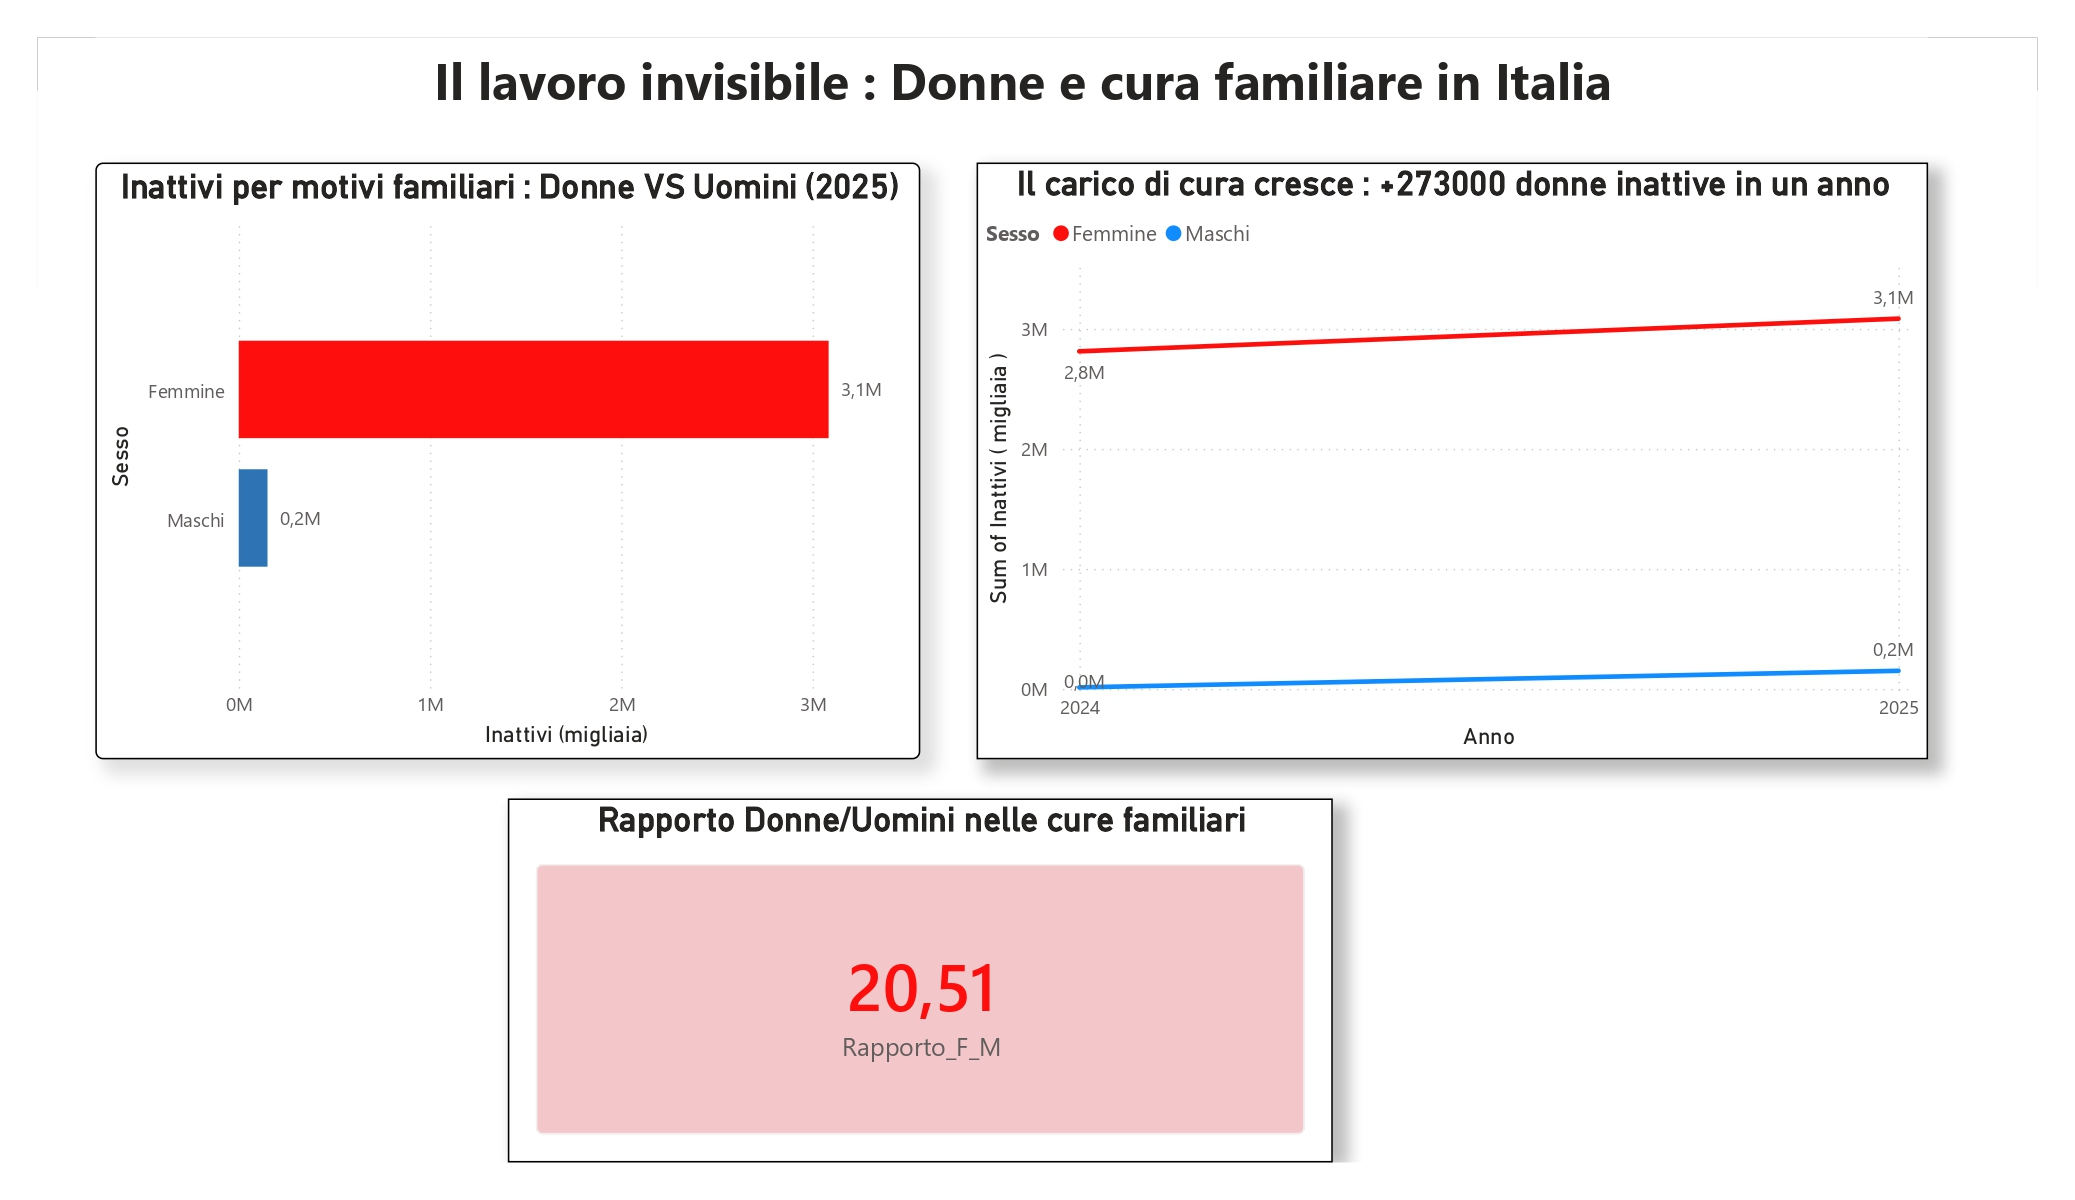

What the dashboard file says about the page in this screenshot:
{"tool":"powerbi","page":{"name":"Motivi Familiari","canvas":[1280,720],"ordinal":0},"visuals":[{"type":"clusteredBarChart","title":"Inattivi per motivi familiari : Donne VS Uomini (2025)","fields":{"Category":["Motivo_inattività.Sesso"],"Y":["Sum(Motivo_inattività.Valore_Migliaia)"]},"box":[37,79.6,528.3,382.8],"z":0},{"type":"lineChart","title":"Il carico di cura cresce : +273000 donne inattive in un anno","fields":{"Category":["Motivo_inattività.Anno"],"Y":["Sum(Motivo_inattività.Inattivi ( migliaia ))"],"Series":["Motivo_inattività.Sesso"]},"box":[601,79.6,609.3,382.8],"z":1},{"type":"textbox","box":[37,0,1173.2,67.2],"z":2},{"type":"cardVisual","title":"Rapporto Donne/Uomini nelle cure familiari","fields":{"Data":["Motivo_inattività.Rapporto_F_M"]},"box":[300.5,487.1,528.3,233.3],"z":3}]}

Visuals, with their boxes in screenshot pixels (x1, y1, x2, y2):
"Inattivi per motivi familiari : Donne VS Uomini (2025)" clusteredBarChart: bbox=(100, 188, 915, 778)
"Il carico di cura cresce : +273000 donne inattive in un anno" lineChart: bbox=(970, 188, 1910, 778)
textbox: bbox=(100, 65, 1909, 168)
"Rapporto Donne/Uomini nelle cure familiari" cardVisual: bbox=(507, 816, 1321, 1176)
